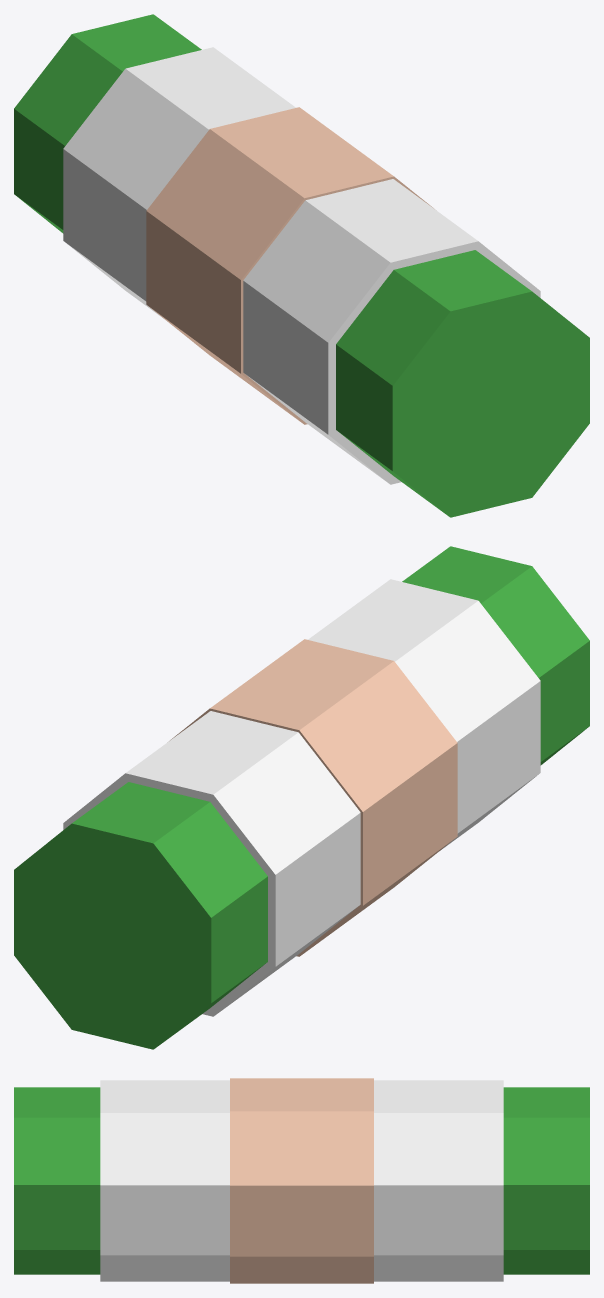
Rendered from ce_ammo2_fuel30_foam_a.obj.
3 renders of one model, top to bottom at view 1: azimuth 30°, elevation 25°; view 2: azimuth 150°, elevation 25°; view 3: azimuth 270°, elevation 25°, orthographic. The views are drawn at different scales.
Parts seen in each view (by area): view 1: ce_ammo2_fuel30_foam_a_0, ce_ammo2_fuel30_foam_a_2, ce_ammo2_fuel30_foam_a_1, ce_ammo2_fuel30_foam_a_3, ce_ammo2_fuel30_foam_a_4; view 2: ce_ammo2_fuel30_foam_a_4, ce_ammo2_fuel30_foam_a_2, ce_ammo2_fuel30_foam_a_3, ce_ammo2_fuel30_foam_a_1, ce_ammo2_fuel30_foam_a_0; view 3: ce_ammo2_fuel30_foam_a_2, ce_ammo2_fuel30_foam_a_1, ce_ammo2_fuel30_foam_a_3, ce_ammo2_fuel30_foam_a_0, ce_ammo2_fuel30_foam_a_4.
Part boxes in pixels (box(x1,y1,x2,y2)): ce_ammo2_fuel30_foam_a_0: box(336, 250, 589, 517); ce_ammo2_fuel30_foam_a_2: box(146, 107, 433, 424); ce_ammo2_fuel30_foam_a_1: box(243, 179, 540, 484); ce_ammo2_fuel30_foam_a_3: box(63, 47, 295, 319); ce_ammo2_fuel30_foam_a_4: box(14, 14, 201, 233); ce_ammo2_fuel30_foam_a_4: box(14, 782, 267, 1049); ce_ammo2_fuel30_foam_a_2: box(170, 639, 457, 956); ce_ammo2_fuel30_foam_a_3: box(63, 711, 360, 1016); ce_ammo2_fuel30_foam_a_1: box(308, 579, 540, 851); ce_ammo2_fuel30_foam_a_0: box(402, 546, 589, 765); ce_ammo2_fuel30_foam_a_2: box(230, 1078, 373, 1283); ce_ammo2_fuel30_foam_a_1: box(100, 1080, 229, 1281); ce_ammo2_fuel30_foam_a_3: box(374, 1080, 503, 1281); ce_ammo2_fuel30_foam_a_0: box(14, 1087, 100, 1274); ce_ammo2_fuel30_foam_a_4: box(503, 1087, 589, 1274).
Size of the model in its own units: 0.132 by 0.132 by 0.4.
